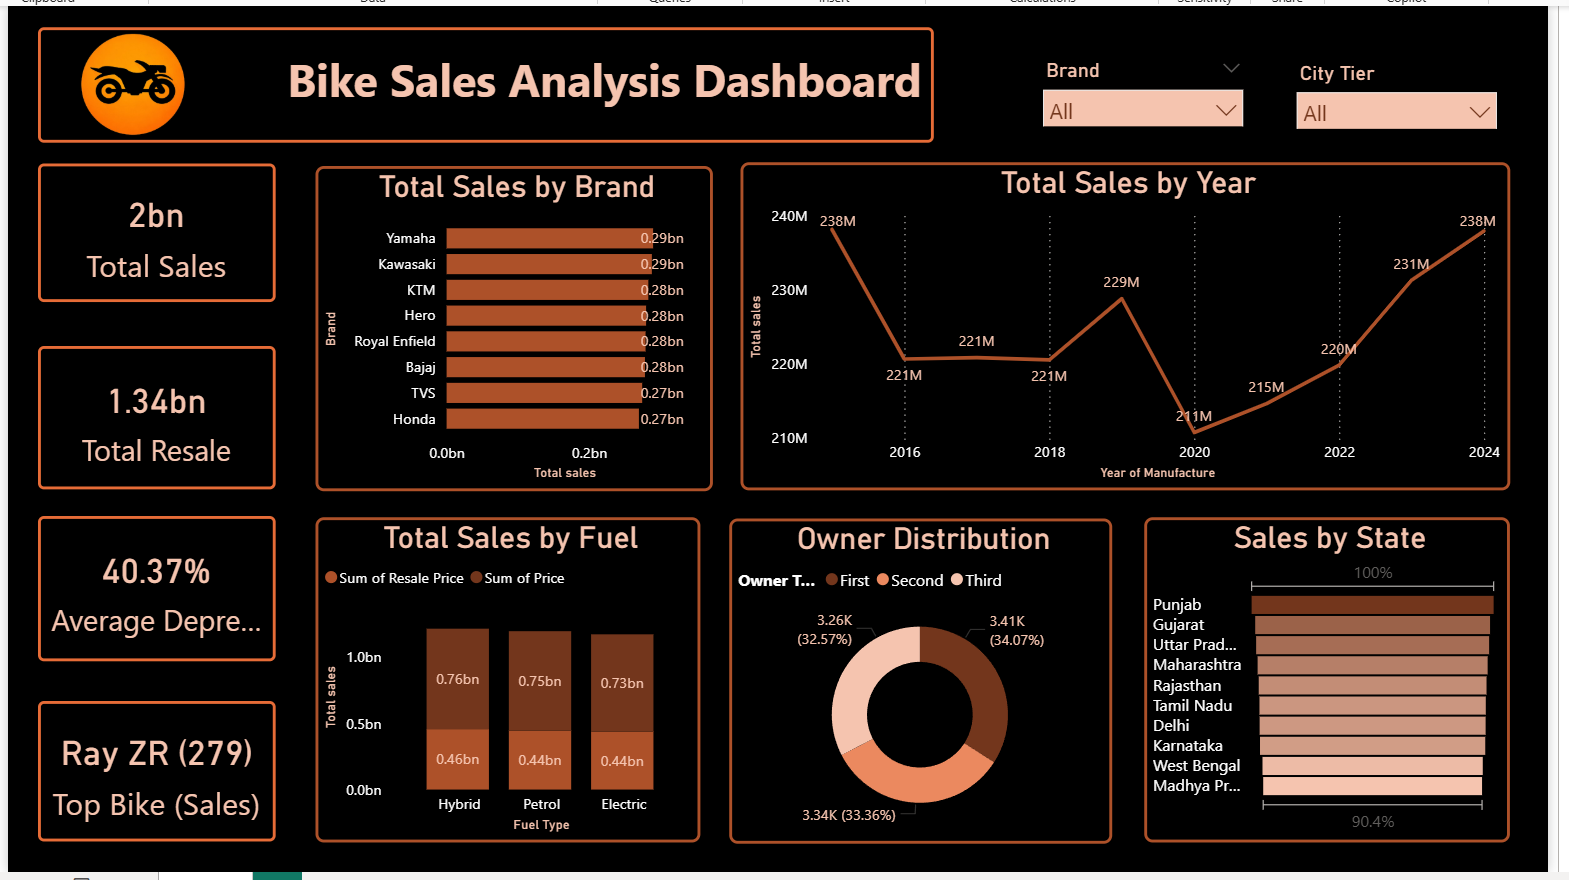

The page's visual inventory and layout, read from the dashboard file:
{"tool":"powerbi","page":{"name":"Page 1","canvas":[1280,720],"ordinal":0},"visuals":[{"type":"textbox","box":[24.7,17.8,745.1,96.1],"z":0},{"type":"card","title":"Total Sales","fields":{"Values":["Sum(bike_sales_india.Price)"]},"box":[24.5,130.6,197.6,115.3],"z":1000},{"type":"card","fields":{"Values":["Sum(bike_sales_india.Resale Price)"]},"box":[24.5,282.9,197.6,119.4],"z":2000},{"type":"card","fields":{"Values":["Avg(bike_sales_india.Depreciation %)"]},"box":[24.5,424.2,197.6,120.8],"z":3000},{"type":"clusteredBarChart","title":"Total Sales by Brand","fields":{"Category":["bike_sales_india.Brand"],"Y":["Sum(bike_sales_india.Price)"]},"box":[255.7,133.1,330,270],"z":4000},{"type":"card","title":"Total Sales","fields":{"Values":["bike_sales_india.Top Bike with Sales"]},"box":[24.5,577.9,197.6,116.6],"z":5000},{"type":"lineChart","title":"Total Sales by Year","fields":{"Category":["bike_sales_india.Year of Manufacture"],"Y":["Sum(bike_sales_india.Price)"]},"box":[608.6,130.3,640,272.9],"z":6000},{"type":"columnChart","title":"Total Sales by Fuel","fields":{"Category":["bike_sales_india.Fuel Type"],"Y":["Sum(bike_sales_india.Resale Price)","Sum(bike_sales_india.Price)"]},"box":[255.7,424.6,320,270],"z":7000},{"type":"donutChart","title":"Owner Distribution","fields":{"Category":["bike_sales_india.Owner Type"],"Y":["CountNonNull(bike_sales_india.Model)"]},"box":[600,426,318.6,270],"z":8000},{"type":"funnel","title":"Sales by State","fields":{"Category":["bike_sales_india.State"],"Y":["Sum(bike_sales_india.Resale Price)"]},"box":[944.3,424.6,304.3,270],"z":9000},{"type":"slicer","fields":{"Values":["bike_sales_india.Brand"]},"box":[850,38.9,187.1,61.4],"z":10000},{"type":"slicer","fields":{"Values":["bike_sales_india.City Tier"]},"box":[1061.4,40.3,187.1,61.4],"z":11000},{"type":"image","box":[13.7,2.7,181.1,127.6],"z":12000}]}

Visuals, with their boxes on the page's 1280x720 design canvas (x1, y1, x2, y2). These are canvas units, not pixel positions in the 1569x880 screenshot, which may show the page scaled, cropped or inside an application window:
textbox: locate(25, 18, 770, 114)
"Total Sales" card: locate(24, 131, 222, 246)
card - Sum(bike_sales_india.Resale Price): locate(24, 283, 222, 402)
card - Avg(bike_sales_india.Depreciation %): locate(24, 424, 222, 545)
"Total Sales by Brand" clusteredBarChart: locate(256, 133, 586, 403)
"Total Sales" card: locate(24, 578, 222, 694)
"Total Sales by Year" lineChart: locate(609, 130, 1249, 403)
"Total Sales by Fuel" columnChart: locate(256, 425, 576, 695)
"Owner Distribution" donutChart: locate(600, 426, 919, 696)
"Sales by State" funnel: locate(944, 425, 1249, 695)
slicer - bike_sales_india.Brand: locate(850, 39, 1037, 100)
slicer - bike_sales_india.City Tier: locate(1061, 40, 1248, 102)
image: locate(14, 3, 195, 130)
